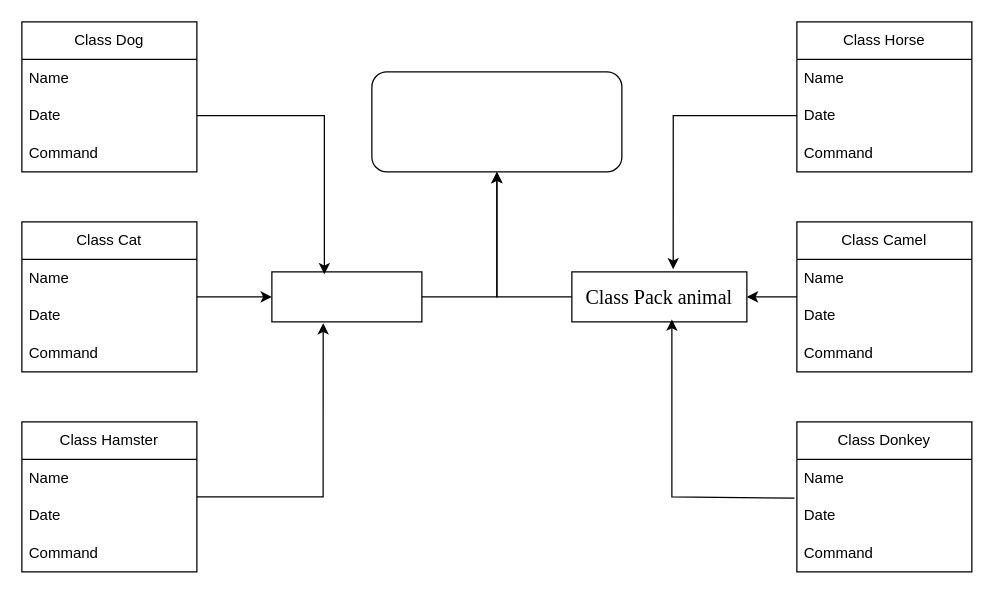
Image size: 994x594. Some labels were removed from this diagram. The centre of each missing label's shape, as x and y in pixels:
"Class Pets" goes at [346,296].
"Класс Animals" goes at [496,121].
